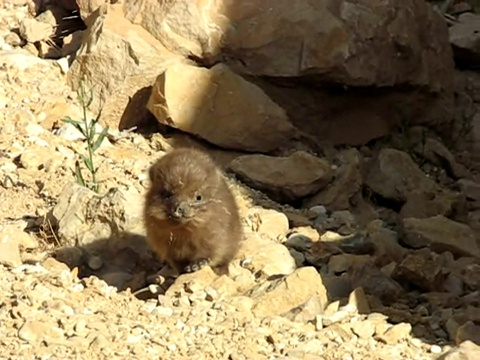Rock Hyrex: (147, 149, 239, 279)
